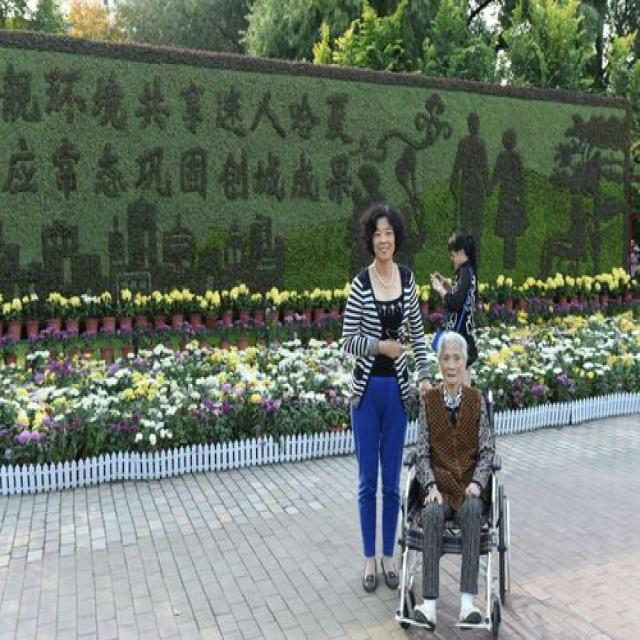wheelchairs: (390, 382, 520, 640)
